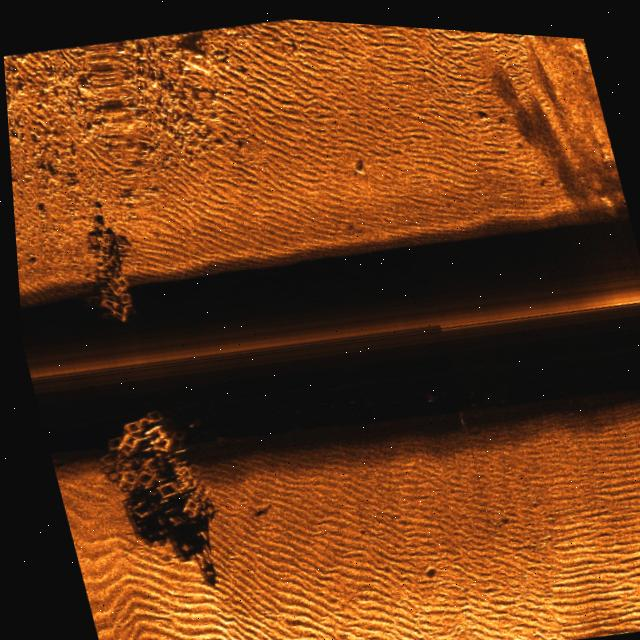artificial reef: (76, 393, 225, 548), (61, 211, 158, 336)
